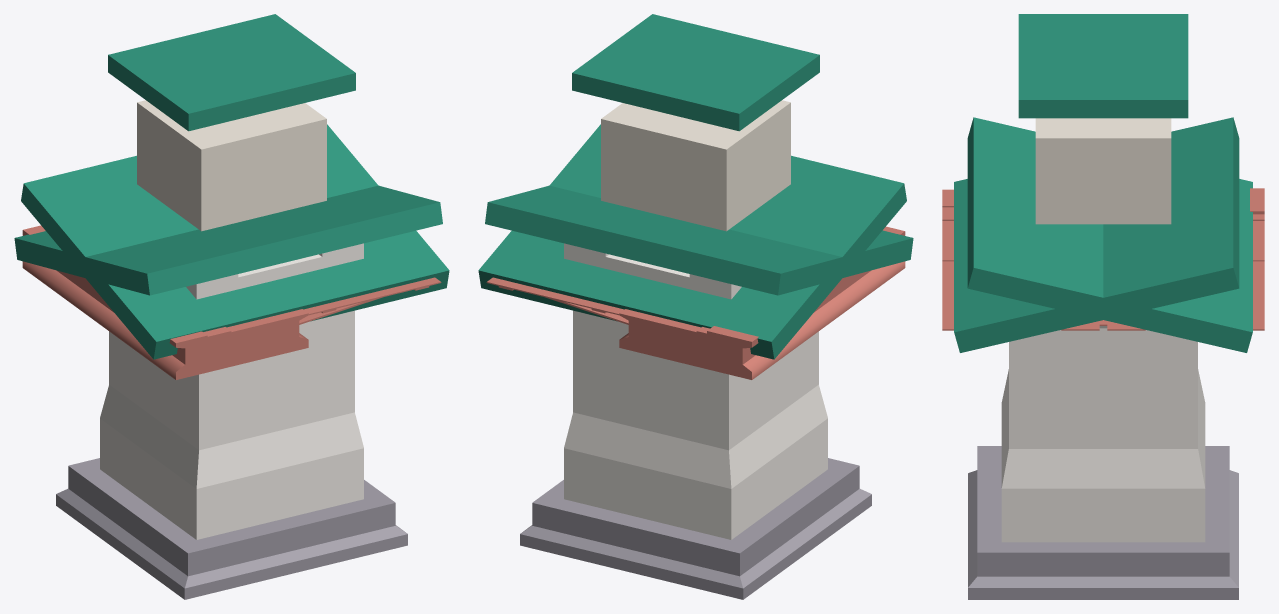
The model's file is asian-spire.glb.
The picture shows the model from 3 angles, left to right: view 1: azimuth 30°, elevation 25°; view 2: azimuth 150°, elevation 25°; view 3: azimuth 270°, elevation 25°; orthographic projection. The views are drawn at different scales.
Visible parts, largest first — view 1: body; view 2: body; view 3: body.
Boxes of the visible parts, x1=… form: body: x1=14, y1=14, x2=449, y2=599; body: x1=478, y1=14, x2=913, y2=599; body: x1=942, y1=14, x2=1264, y2=599.
Bounding box in the file's own units: 1.05 × 1.58 × 0.95.
